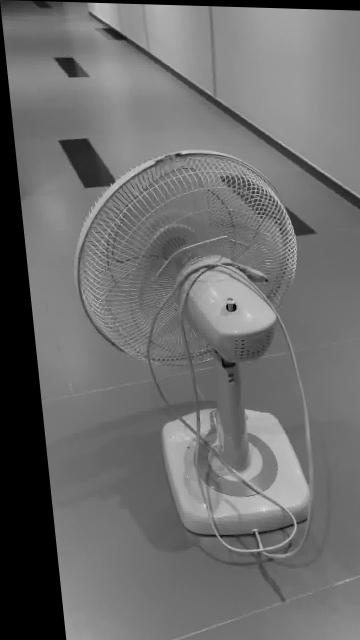Fan: (68, 150, 300, 537)
